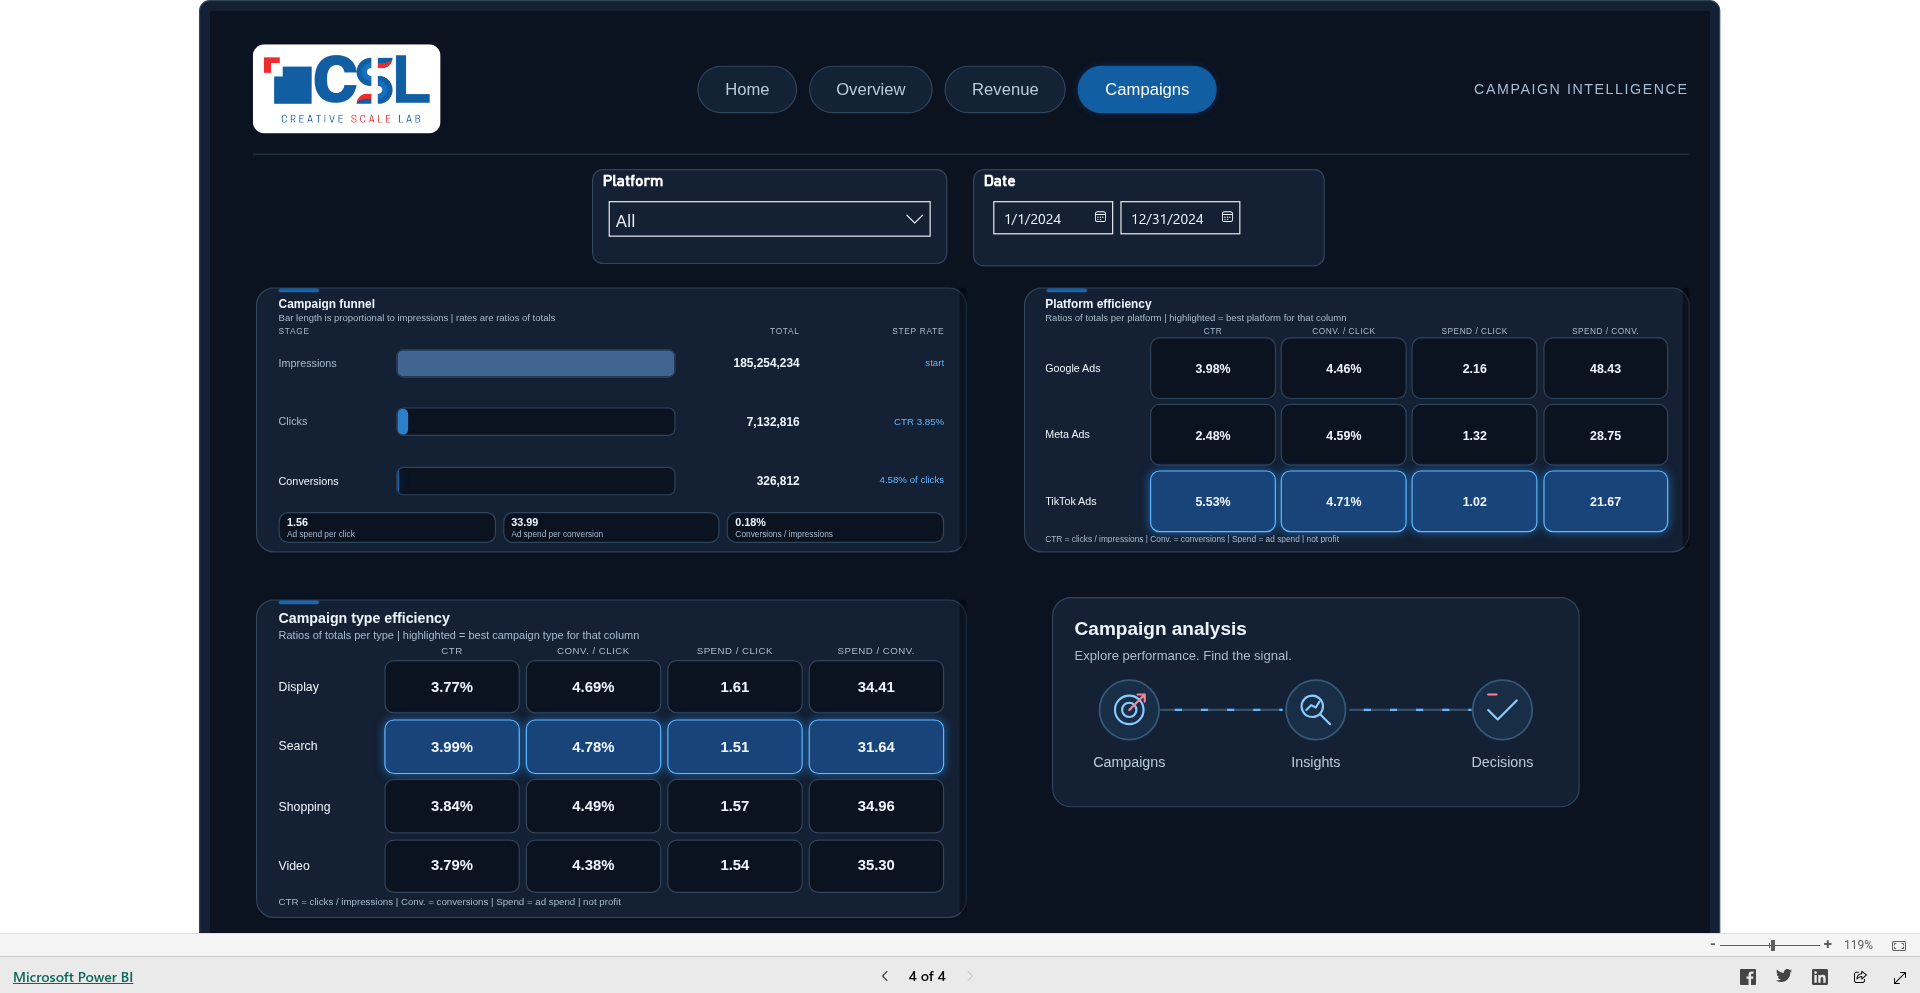

What the dashboard file says about the page in this screenshot:
{"tool":"powerbi","page":{"name":"Camaigns","canvas":[1280,785],"ordinal":3},"visuals":[{"type":"htmlContent443BE3AD55E043BF878BED274D3A6855","fields":{"content":["html_code.CSL Header Campaigns"]},"box":[0,0,1280,808.7],"z":0},{"type":"actionButton","box":[421.8,47.1,94.1,47.1],"z":1000},{"type":"actionButton","box":[515.7,47.9,95.8,47.9],"z":2000},{"type":"actionButton","box":[641.1,45.6,95.8,47.9],"z":3000},{"type":"htmlContent443BE3AD55E043BF878BED274D3A6855","fields":{"content":["_Measures.CSL Campaign Funnel"]},"box":[43.1,234.5,610.1,236.9],"z":4000},{"type":"htmlContent443BE3AD55E043BF878BED274D3A6855","fields":{"content":["_Measures.CSL Platform Efficiency"]},"box":[689,234.5,571.8,236.9],"z":5000},{"type":"htmlContent443BE3AD55E043BF878BED274D3A6855","fields":{"content":["_Measures.CSL Campaign Type Efficiency"]},"box":[43.1,497.6,610.1,282.3],"z":6000},{"type":"slicer","title":"Platform","fields":{"Values":["CSL Platform.platform"]},"box":[330.2,142.2,298.9,79.5],"z":6001},{"type":"slicer","title":"Date","fields":{"Values":["Calendar.Date"]},"box":[650.8,142.2,296.5,82],"z":6002},{"type":"htmlContent443BE3AD55E043BF878BED274D3A6855","fields":{"content":["_Measures.CSL Campaign Analysis Accent"]},"box":[713,497.6,533.5,265.6],"z":6003}]}

Visuals, with their boxes on the page's 1280x785 design canvas (x1, y1, x2, y2). These are canvas units, not pixel positions in the 1920x993 screenshot, which may show the page scaled, cropped or inside an application window:
htmlContent443BE3AD55E043BF878BED274D3A6855 - html_code.CSL Header Campaigns: rect(0, 0, 1280, 809)
actionButton: rect(422, 47, 516, 94)
actionButton: rect(516, 48, 612, 96)
actionButton: rect(641, 46, 737, 94)
htmlContent443BE3AD55E043BF878BED274D3A6855 - _Measures.CSL Campaign Funnel: rect(43, 234, 653, 471)
htmlContent443BE3AD55E043BF878BED274D3A6855 - _Measures.CSL Platform Efficiency: rect(689, 234, 1261, 471)
htmlContent443BE3AD55E043BF878BED274D3A6855 - _Measures.CSL Campaign Type Efficiency: rect(43, 498, 653, 780)
"Platform" slicer: rect(330, 142, 629, 222)
"Date" slicer: rect(651, 142, 947, 224)
htmlContent443BE3AD55E043BF878BED274D3A6855 - _Measures.CSL Campaign Analysis Accent: rect(713, 498, 1246, 763)
